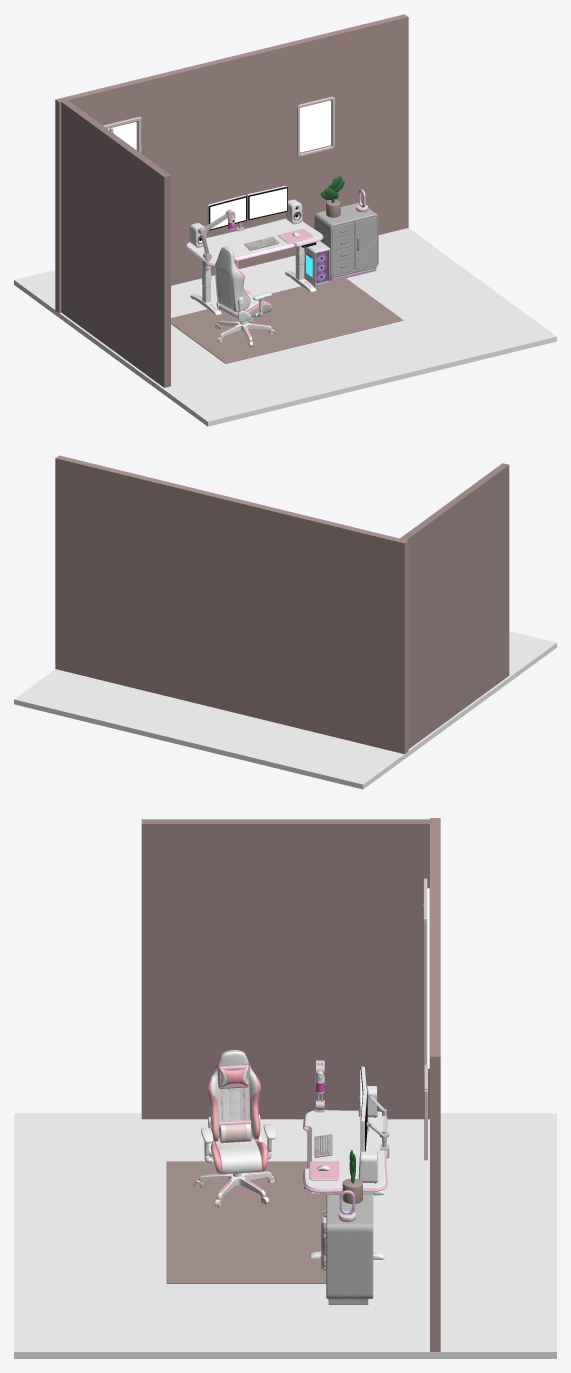
The picture shows the model from 3 angles, top to bottom: view 1: azimuth 30°, elevation 25°; view 2: azimuth 150°, elevation 25°; view 3: azimuth 270°, elevation 25°; orthographic projection. The views are drawn at different scales.
Visible parts, largest first — view 1: Architecture_Back_Wall, Architecture_Floor, Architecture_Left_Wall, Decor_Rug, GEO_Desk_Moving_Top, GEO_Chair_Swivel_Upper, GEO_Cabinet_Body, Wall_Art_Art, GEO_Door_Right_Front, 04-pc-tower_mesh_01, Screen_Right, GEO_Desk_Fixed_Base (+2 smaller); view 2: Architecture_Back_Wall, Architecture_Left_Wall, Architecture_Floor; view 3: Architecture_Floor, Architecture_Left_Wall, Decor_Rug, Architecture_Back_Wall, GEO_Chair_Swivel_Upper, GEO_Cabinet_Body, GEO_Desk_Moving_Top, GEO_Chair_Static_Base, Window_Frame_V.001.
Part boxes in pixels (x1,y1,x2,y2): Architecture_Back_Wall: (55, 14, 408, 312); Architecture_Floor: (14, 228, 556, 426); Architecture_Left_Wall: (58, 98, 170, 387); Decor_Rug: (171, 277, 403, 363); GEO_Desk_Moving_Top: (185, 218, 323, 274); GEO_Chair_Swivel_Upper: (215, 246, 272, 321); GEO_Cabinet_Body: (314, 202, 378, 280); Wall_Art_Art: (300, 100, 330, 152); GEO_Door_Right_Front: (355, 216, 377, 270); 04-pc-tower_mesh_01: (304, 241, 330, 286); Screen_Right: (249, 188, 286, 218); GEO_Desk_Fixed_Base: (190, 263, 316, 315); Architecture_Back_Wall: (55, 455, 408, 753); Architecture_Left_Wall: (396, 463, 509, 748); Architecture_Floor: (14, 631, 556, 789); Architecture_Floor: (14, 1113, 556, 1358); Architecture_Left_Wall: (141, 819, 440, 1119); Decor_Rug: (166, 1161, 334, 1283); Architecture_Back_Wall: (430, 818, 440, 1351); GEO_Chair_Swivel_Upper: (201, 1050, 275, 1173); GEO_Cabinet_Body: (326, 1194, 373, 1304); GEO_Desk_Moving_Top: (303, 1110, 387, 1194); GEO_Chair_Static_Base: (194, 1171, 275, 1206); Window_Frame_V.001: (423, 921, 427, 1075).
Bounding box in the file's own units: 5.2 × 3.07 × 5.
Materials: 32 (12 with a texture image).
